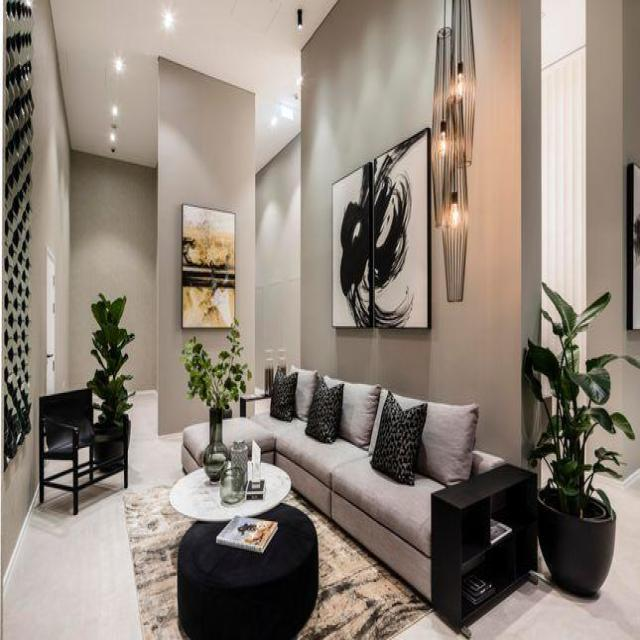Wall: (255, 0, 525, 462), (4, 0, 157, 578), (50, 0, 336, 170), (4, 392, 190, 639), (157, 58, 255, 435), (470, 476, 640, 639), (286, 491, 456, 638), (586, 0, 640, 355), (520, 0, 540, 352), (610, 366, 640, 475), (541, 0, 585, 68)
